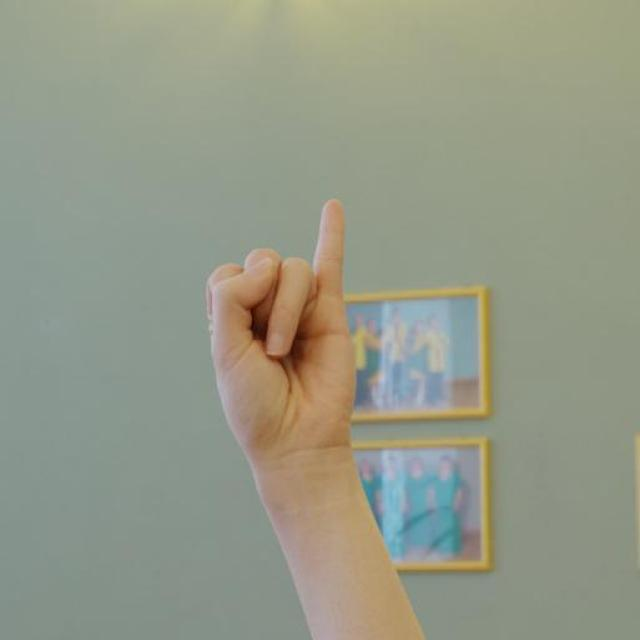I: (161, 156, 412, 543)
